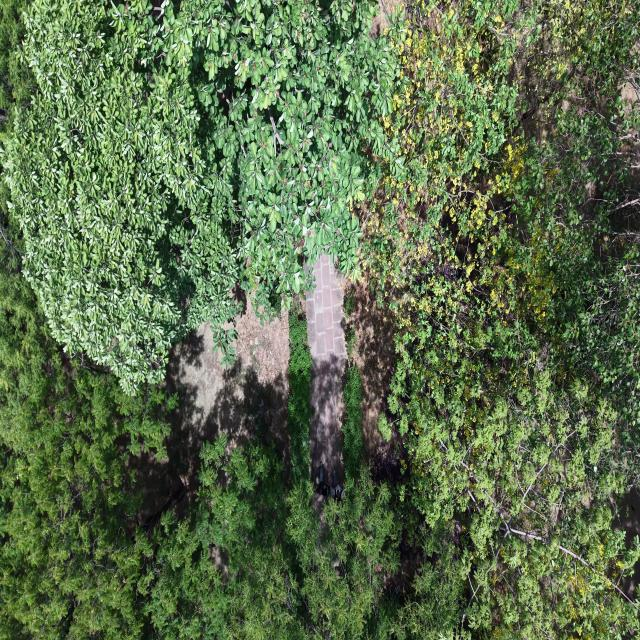DRY_AREA: (131, 303, 290, 529), (133, 302, 289, 527), (131, 304, 289, 526), (135, 302, 289, 526), (307, 256, 399, 486), (171, 303, 289, 474), (173, 302, 288, 448), (344, 274, 405, 481), (346, 277, 402, 478), (346, 279, 395, 469), (306, 254, 346, 486), (306, 255, 346, 486), (346, 279, 396, 461), (235, 301, 289, 388), (310, 356, 344, 485), (306, 254, 346, 359), (614, 487, 639, 548), (615, 486, 639, 548), (370, 0, 401, 37), (621, 82, 639, 114)
PATHWAYS: (307, 255, 346, 486)
VEGETATION_TREE: (0, 0, 639, 639), (0, 3, 401, 638), (362, 0, 639, 637), (0, 272, 463, 639), (4, 0, 393, 392), (140, 307, 465, 639), (0, 176, 174, 639), (0, 269, 174, 639), (144, 441, 401, 639), (0, 0, 32, 144), (0, 0, 32, 133), (288, 305, 312, 482), (341, 364, 362, 478)
